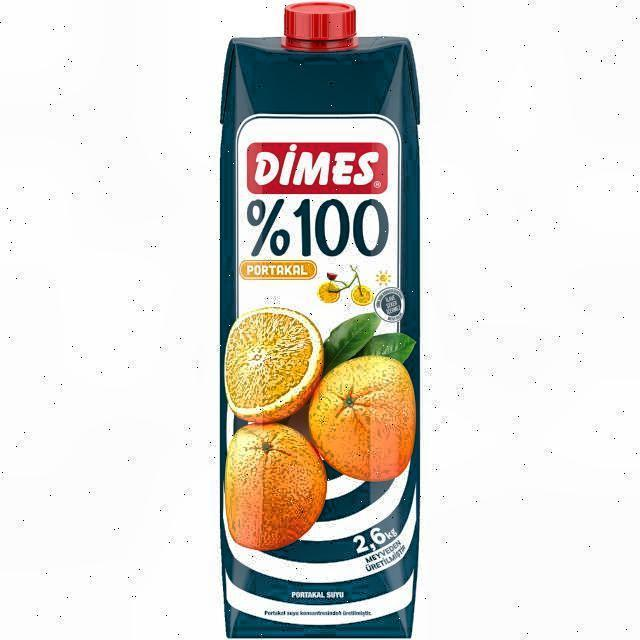cardboard: (218, 0, 422, 640)
